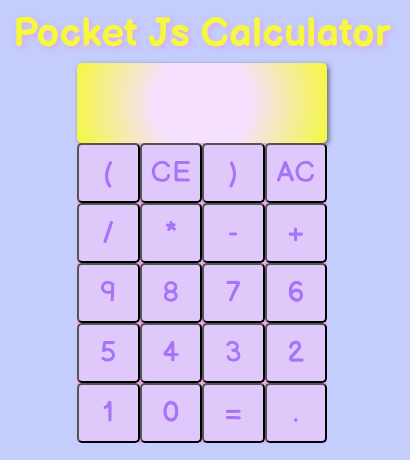
it: result displays correct number and operation when used together
The width and height of the screenshot is (410, 460).
Click the button with test id "9" at (108, 292), box [77,262,140,322]
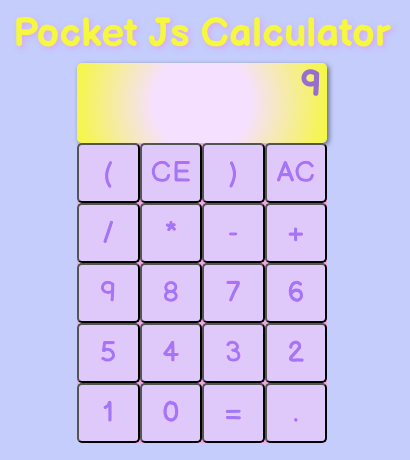
Click the button with test id "/" at (108, 232), box [77,202,140,262]
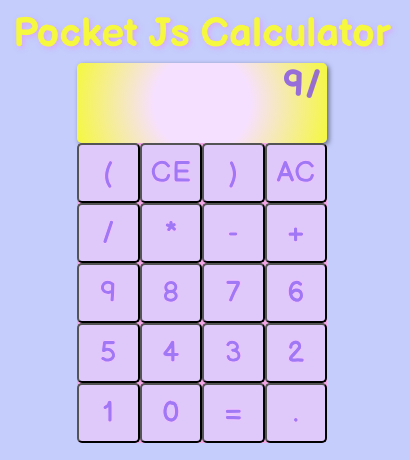
Result: the element with test id "result" reads "9/" at [283,62,322,106]
